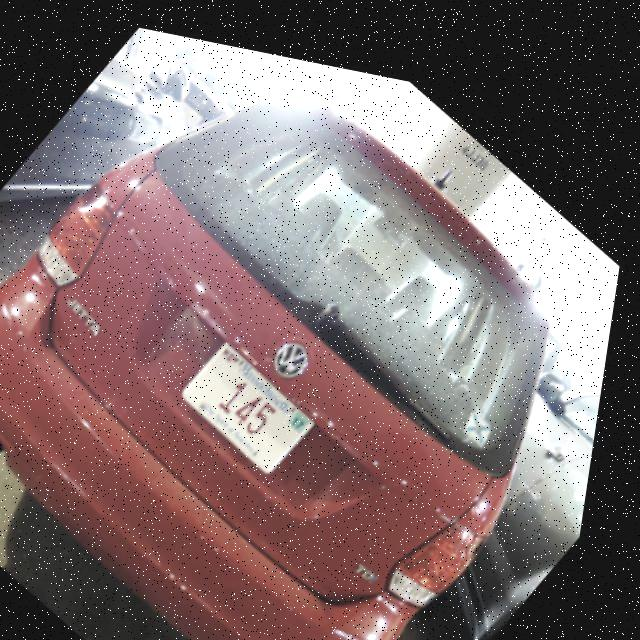license_plate: (183, 322, 334, 468)
